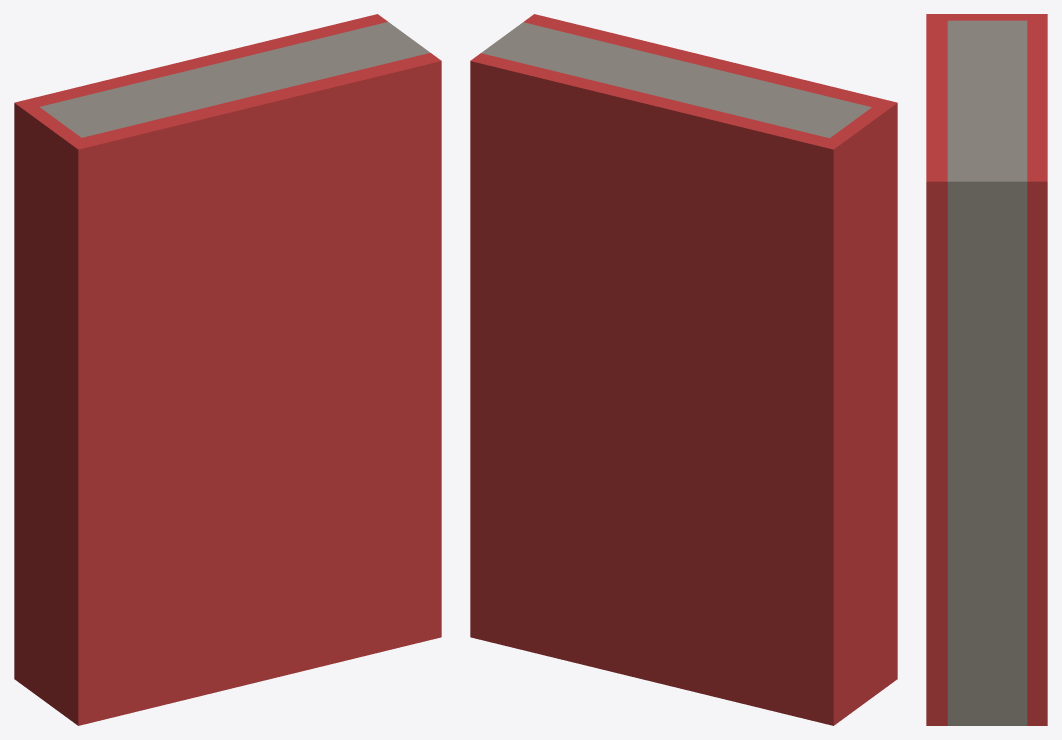
The model's file is Books_3.fbx.
3 views of the same model, side by side, from view 1: azimuth 30°, elevation 25°; view 2: azimuth 150°, elevation 25°; view 3: azimuth 270°, elevation 25° (orthographic). The views are drawn at different scales.
Parts seen in each view (by area): view 1: pCube766; view 2: pCube766; view 3: pCube766.
Boxes of the visible parts, left/top/right/bottom form: pCube766: left=14, top=14, right=441, bottom=725; pCube766: left=470, top=14, right=897, bottom=725; pCube766: left=926, top=14, right=1047, bottom=725.
Bounding box in the file's own units: 0.3055 × 0.4628 × 0.0934.
Materials: 1 (1 with a texture image).
